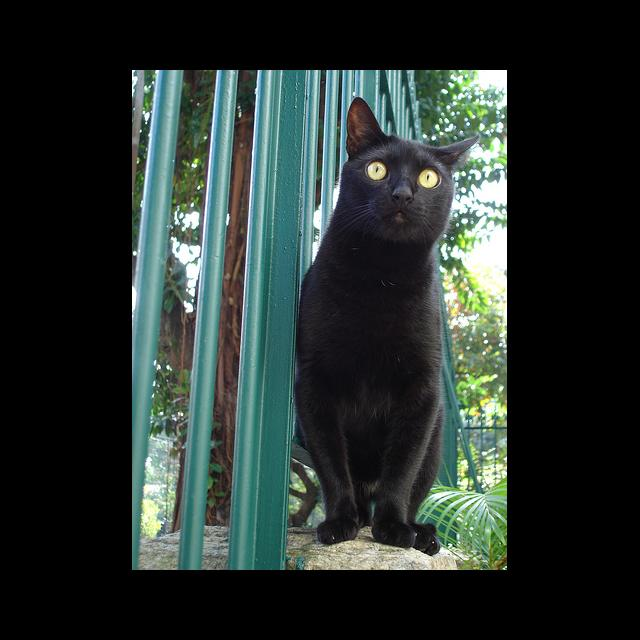animals: (349, 96, 478, 206)
